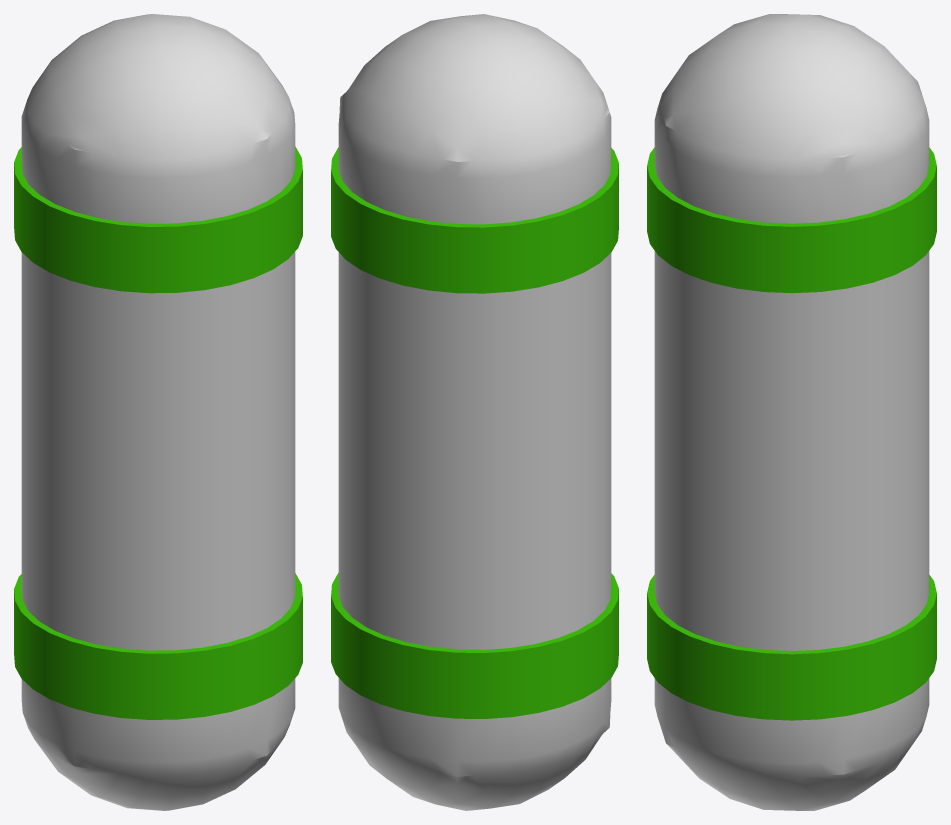
The model's file is Oxygen_Tank1.fbx.
3 renders of one model, left to right at view 1: azimuth 30°, elevation 25°; view 2: azimuth 150°, elevation 25°; view 3: azimuth 270°, elevation 25°, orthographic.
Parts seen in each view (by area): view 1: Cylinder; view 2: Cylinder; view 3: Cylinder.
Boxes of the visible parts, bbox=[...] form: Cylinder: bbox=[14, 14, 302, 810]; Cylinder: bbox=[331, 14, 618, 810]; Cylinder: bbox=[647, 14, 936, 810].
Size of the model in its own units: 211 by 623 by 211.
